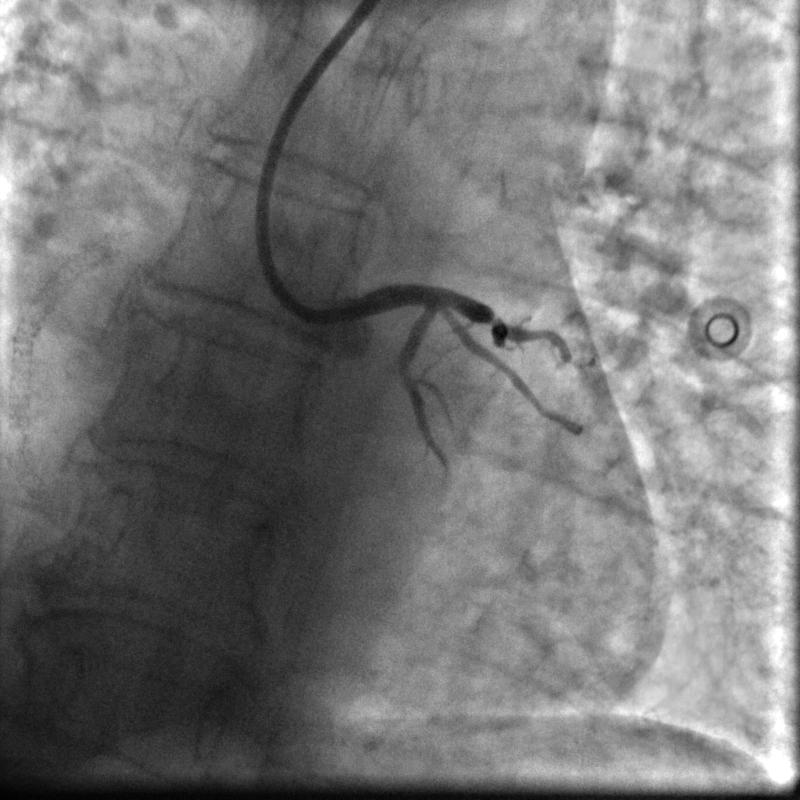Stenosis: (394, 359, 420, 389)
